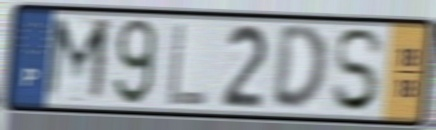2: (220, 22, 272, 111)
9: (109, 16, 159, 108)
D: (269, 23, 330, 115)
L: (164, 19, 210, 108)
M: (40, 14, 114, 107)
S: (329, 26, 387, 115)
